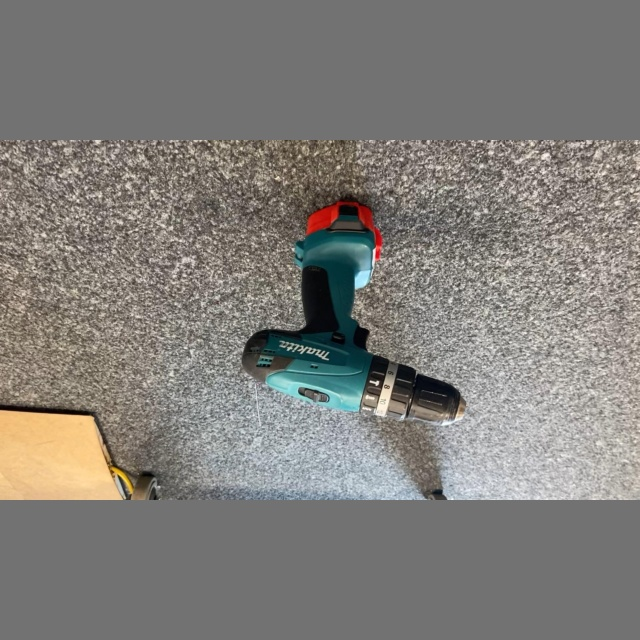drill: (235, 193, 475, 433)
